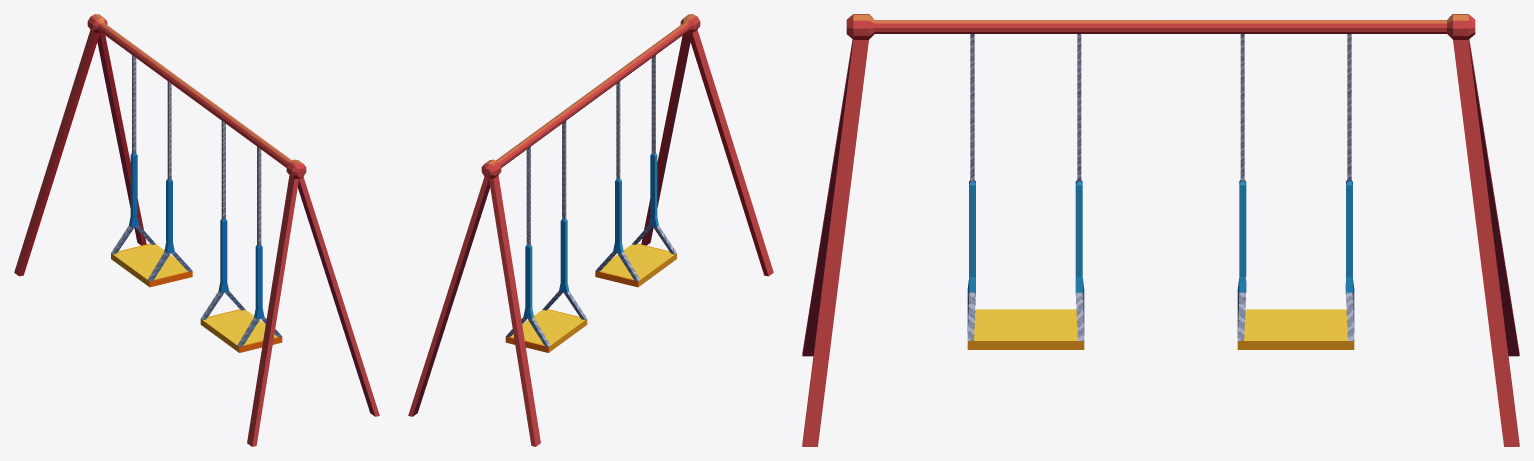
The model's file is swings.fbx.
3 views of the same model, side by side, from view 1: azimuth 30°, elevation 25°; view 2: azimuth 150°, elevation 25°; view 3: azimuth 270°, elevation 25° (orthographic). The views are drawn at different scales.
Parts seen in each view (by area): view 1: swing-stand, swing2, swing1; view 2: swing-stand, swing1, swing2; view 3: swing-stand, swing2, swing1.
Part boxes in pixels (bbox=[...]): swing-stand: bbox=[14, 14, 379, 446]; swing2: bbox=[111, 55, 192, 287]; swing1: bbox=[200, 121, 282, 352]; swing-stand: bbox=[408, 14, 773, 446]; swing1: bbox=[595, 55, 676, 287]; swing2: bbox=[505, 121, 587, 352]; swing-stand: bbox=[802, 14, 1519, 446]; swing2: bbox=[1237, 34, 1354, 349]; swing1: bbox=[967, 34, 1084, 349].
Bounding box in the file's own units: 108 × 206 × 347.
